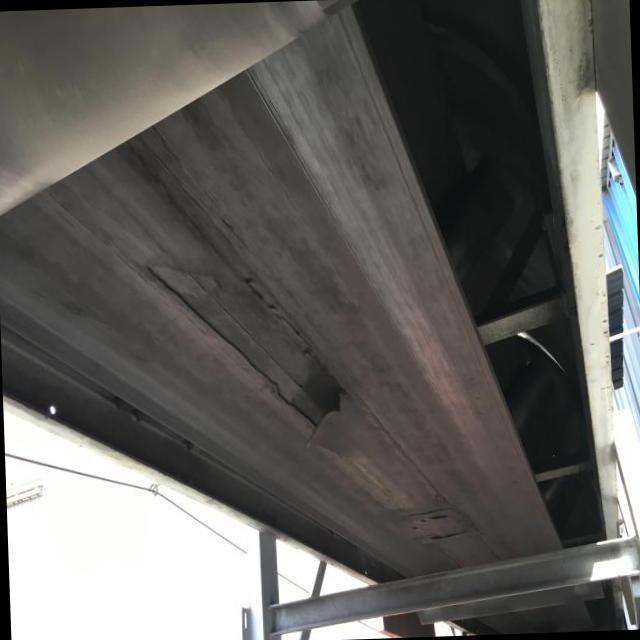Wear: (74, 132, 482, 554)
